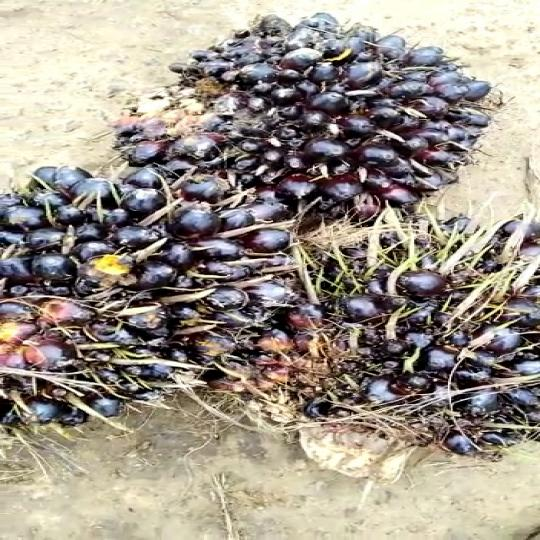mentah: (120, 5, 540, 236), (0, 160, 319, 464), (238, 198, 540, 468)
